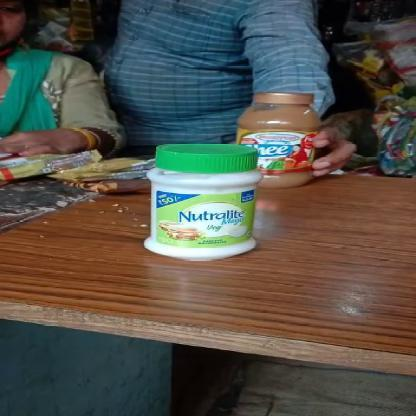Nutralite VEG MAYO 300g-275g-25g-: (144, 144, 262, 260)
